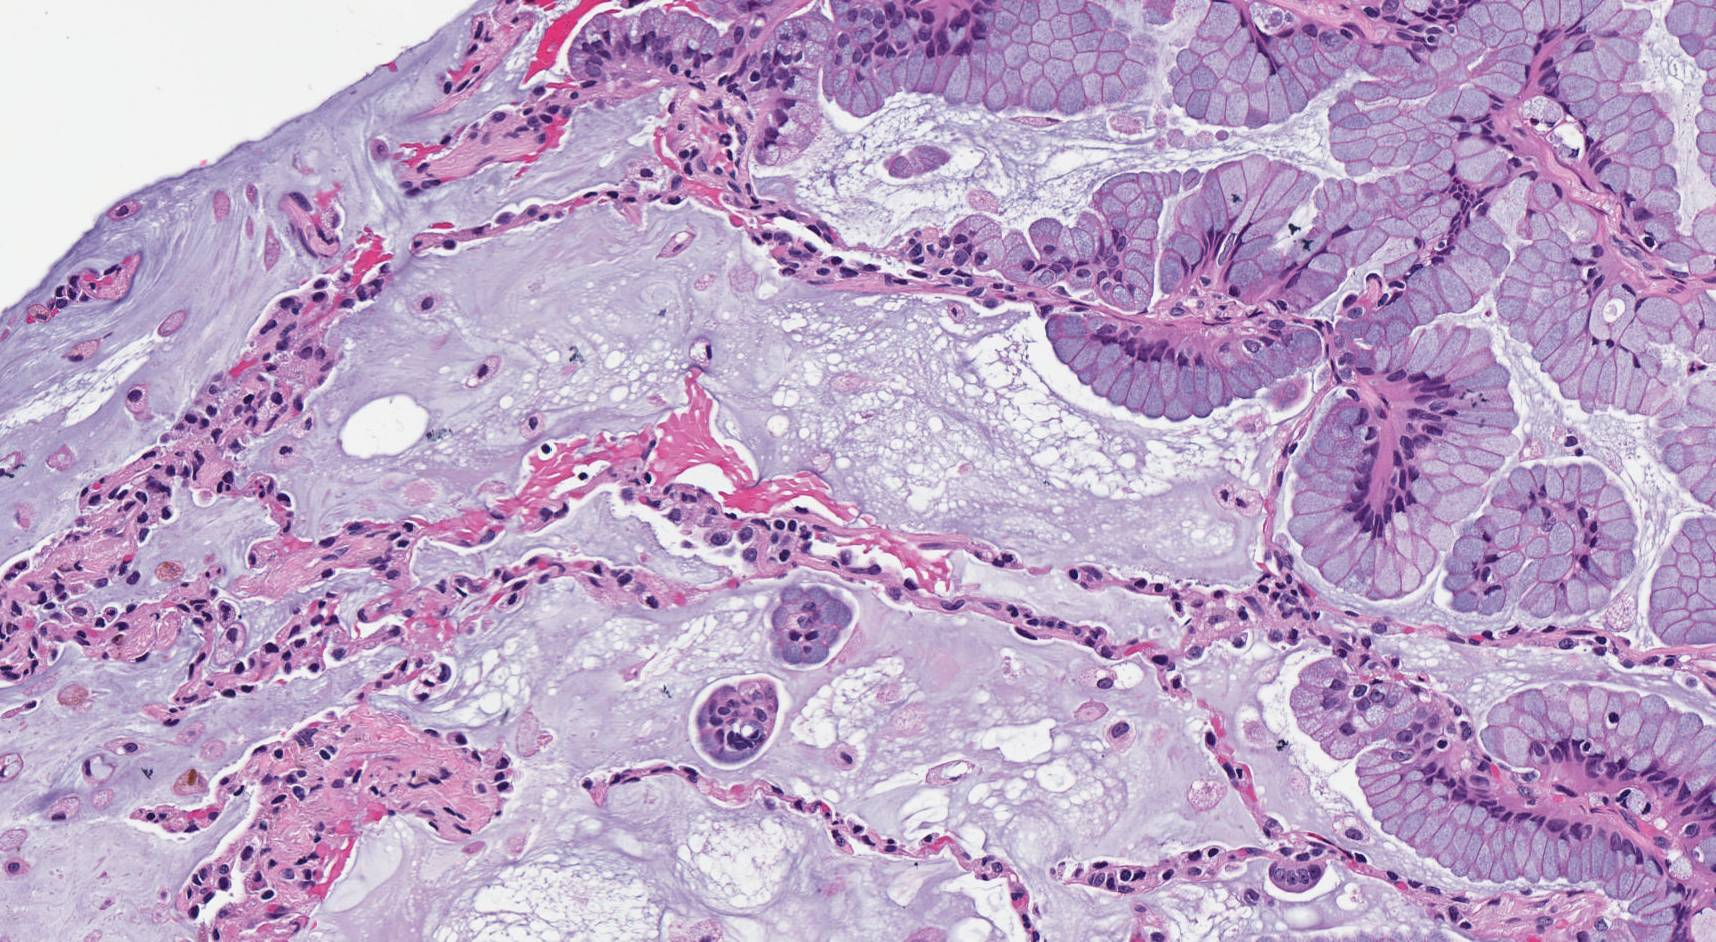stas: (696, 677, 778, 765), (771, 584, 855, 665)
